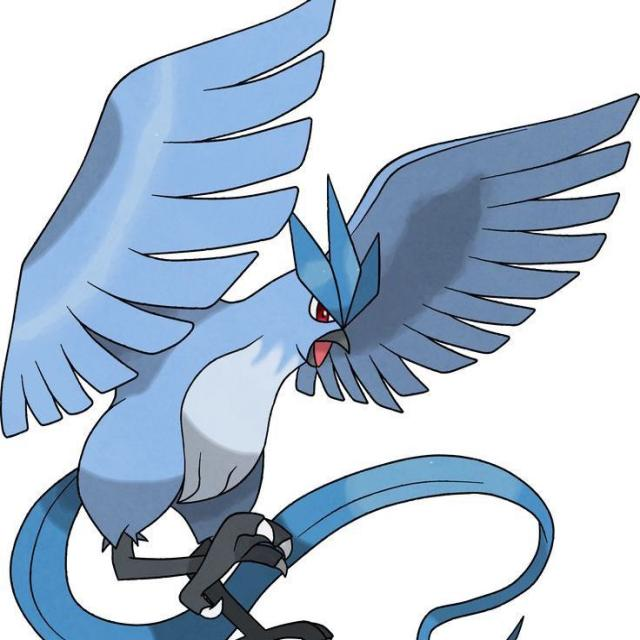Articuno: (76, 152, 424, 612)
